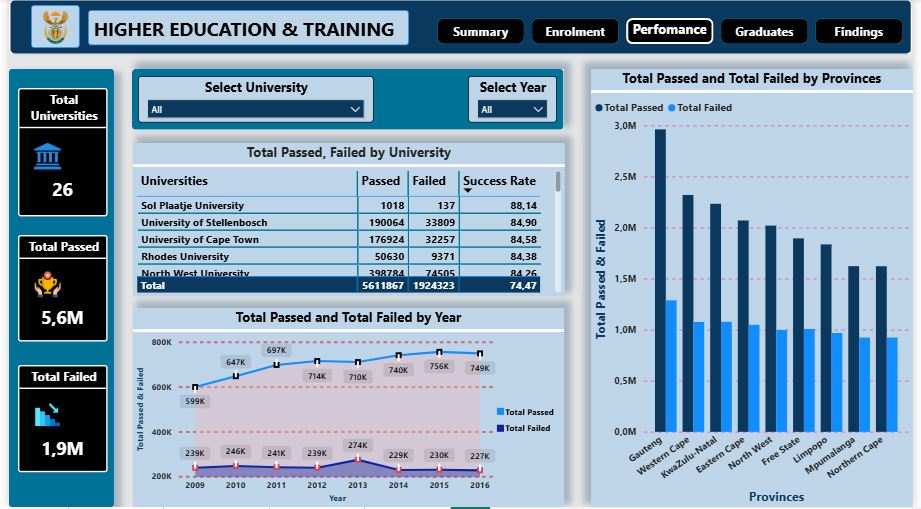

Layout of this report page (visuals, bound fields, positions):
{"tool":"powerbi","page":{"name":"Perfomance","canvas":[1280,720],"ordinal":2},"visuals":[{"type":"shape","box":[0,98.8,148.8,620.9],"z":0},{"type":"lineChart","fields":{"Y":["Calculations.Total Passed","Calculations.Total Failed"],"Category":["Years.Years.Variation.Date Hierarchy.Year"]},"box":[175.6,437.8,611,281.7],"z":1000},{"type":"tableEx","title":"Total Passed, Failed by University","fields":{"Values":["Institutions.University Name ","Calculations.Total Passed","Calculations.Total Failed","Calculations.Total Success"]},"box":[175.6,203.7,612.2,217.1],"z":2000},{"type":"clusteredColumnChart","fields":{"Category":["Provinces.Provinces"],"Y":["Calculations.Total Passed","Calculations.Total Failed"]},"box":[824.4,98.8,455.8,620.9],"z":3000},{"type":"cardVisual","title":"Total Universities","fields":{"Data":["CountNonNull(Institutions.University Name )"]},"box":[12.2,126.8,126.8,181.7],"z":4000},{"type":"cardVisual","title":"Total Passed","fields":{"Data":["Calculations.Total Passed"]},"box":[12.2,334.1,126.8,151.2],"z":5000},{"type":"cardVisual","title":"Total Failed","fields":{"Data":["Calculations.Total Failed"]},"box":[12.2,518.3,126.8,152.4],"z":6000},{"type":"shape","box":[174.4,98.8,611.6,86],"z":7000},{"type":"shape","box":[0,0,1280.2,79.1],"z":8000},{"type":"textbox","box":[112.5,15,455,50],"z":9000},{"type":"image","box":[31.2,8.8,68.8,61.2],"z":10000},{"type":"slicer","title":"Select University","fields":{"Values":["Institutions.University Name "]},"box":[182.6,109.3,333.7,66.3],"z":11000},{"type":"slicer","title":"Select Year","fields":{"Values":["Years.Years.Variation.Date Hierarchy.Year"]},"box":[651.2,109.3,125.6,66.3],"z":12000},{"type":"pageNavigator","box":[607.3,26.8,663.4,37.8],"z":13000}]}

Visuals, with their boxes in screenshot pixels (x1, y1, x2, y2), scaled from the page's 1280x720 canvas onto the 921x509 screenshot:
shape: Rect(0, 70, 107, 508)
lineChart - Calculations.Total Passed x Calculations.Total Failed: Rect(126, 310, 566, 508)
"Total Passed, Failed by University" tableEx: Rect(126, 144, 567, 297)
clusteredColumnChart - Provinces.Provinces x Calculations.Total Passed: Rect(593, 70, 920, 508)
"Total Universities" cardVisual: Rect(9, 90, 100, 218)
"Total Passed" cardVisual: Rect(9, 236, 100, 343)
"Total Failed" cardVisual: Rect(9, 366, 100, 474)
shape: Rect(125, 70, 566, 131)
shape: Rect(0, 0, 920, 56)
textbox: Rect(81, 11, 408, 46)
image: Rect(22, 6, 72, 49)
"Select University" slicer: Rect(131, 77, 371, 124)
"Select Year" slicer: Rect(469, 77, 559, 124)
pageNavigator: Rect(437, 19, 914, 46)
